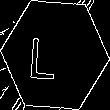L_N: (39, 29, 71, 81)
